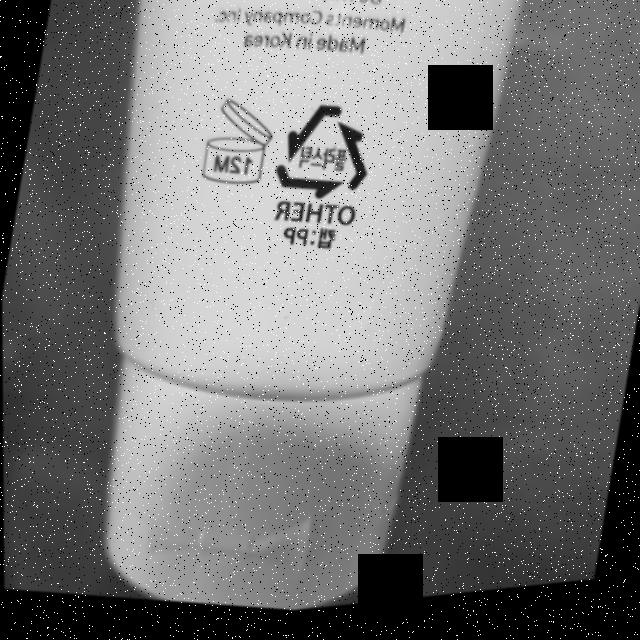Plastic: (271, 96, 382, 217)
